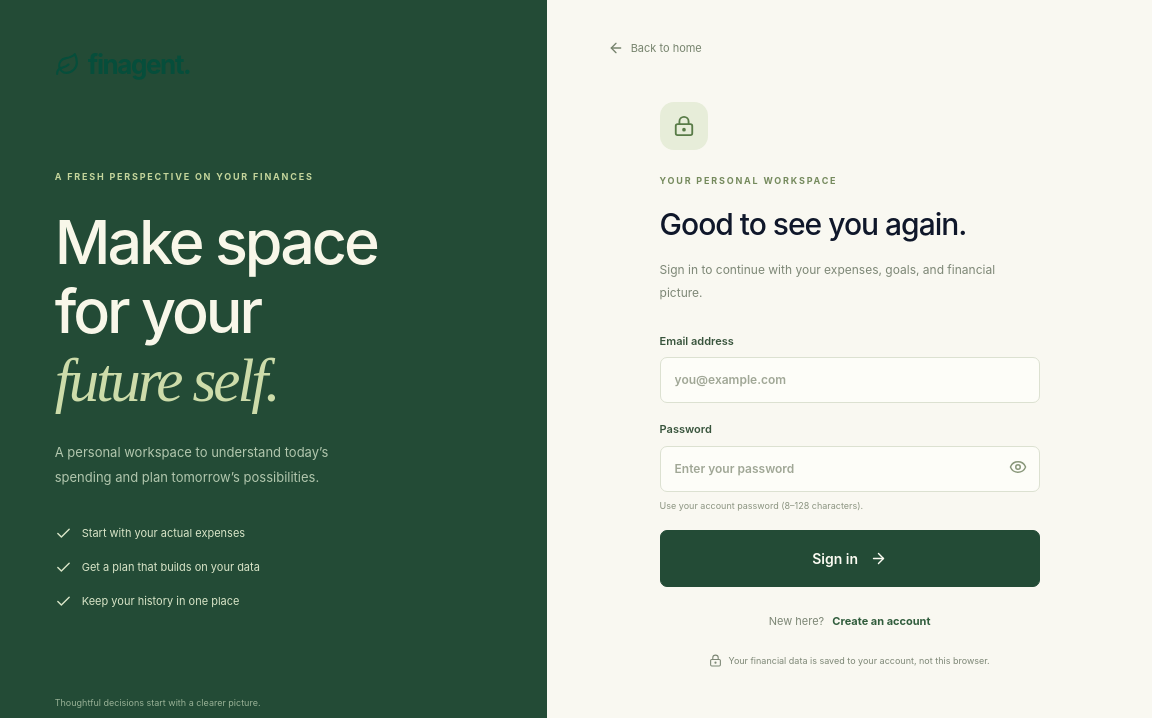
it: rejects invalid email  before contacting login
This screenshot has width=1152, height=718.
Type "test-password" into the password field labelled "Password" at (850, 469), box [660,446,1040,492]
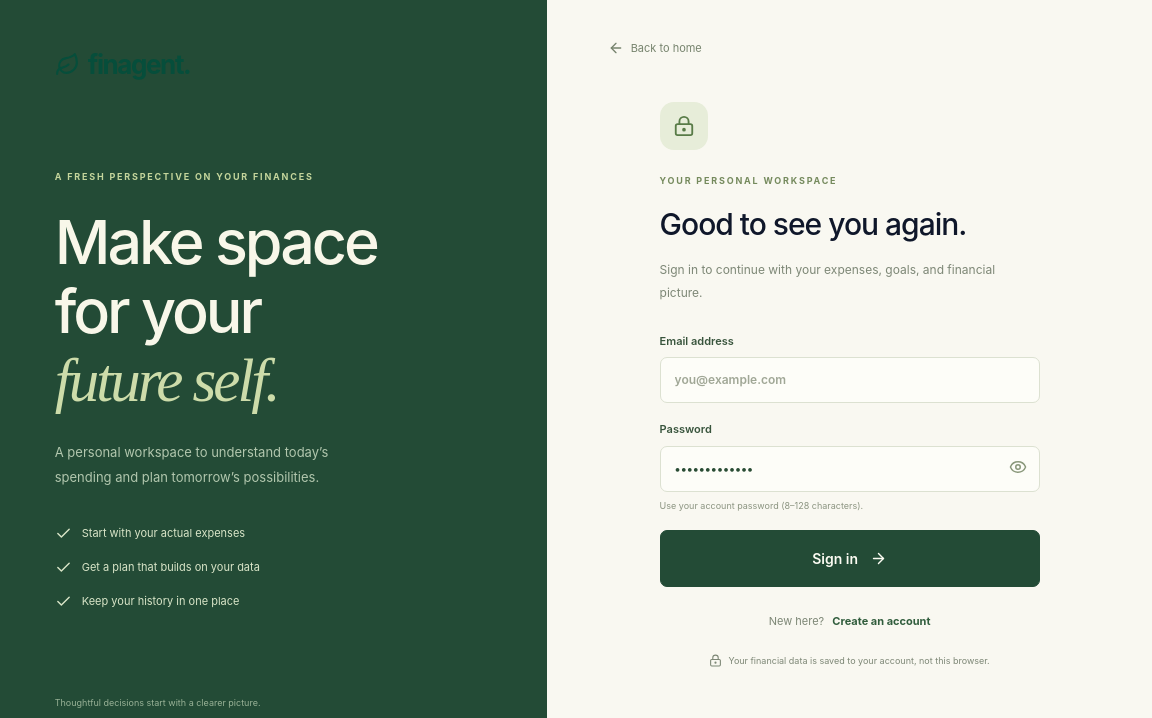
Click the button "Sign in" at (850, 559), box [660,530,1040,587]
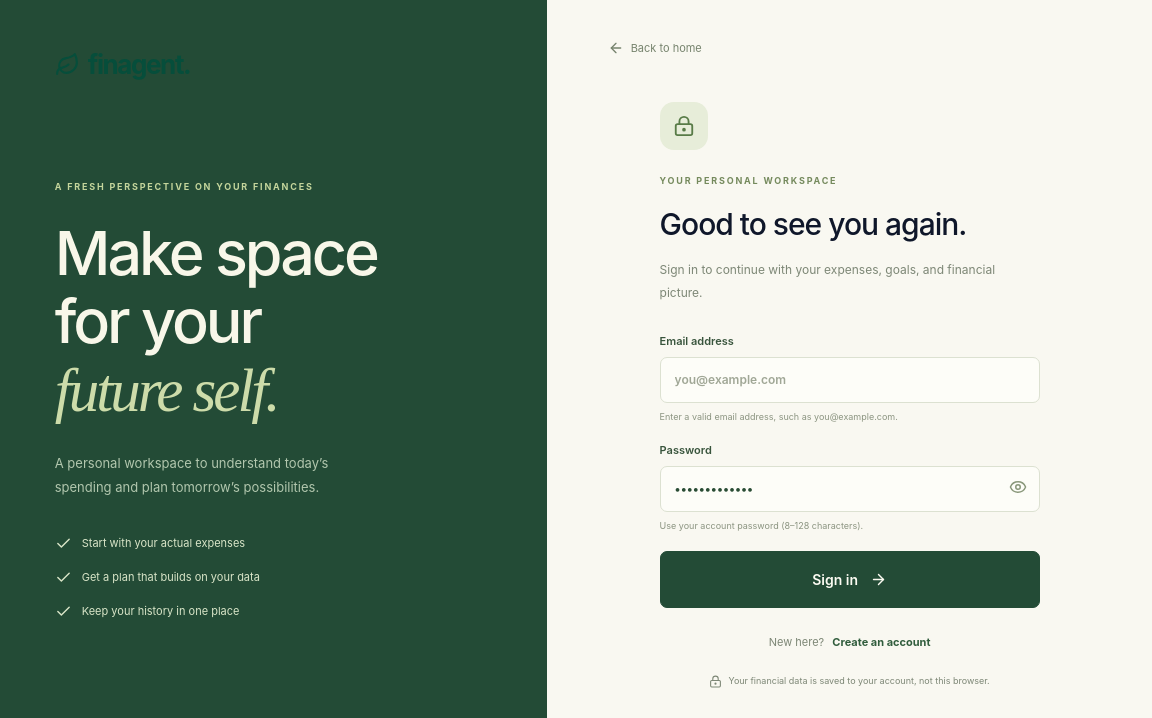
Now the text "Enter a valid email address, such as you@example.com." is shown, box [660,411,898,422]
